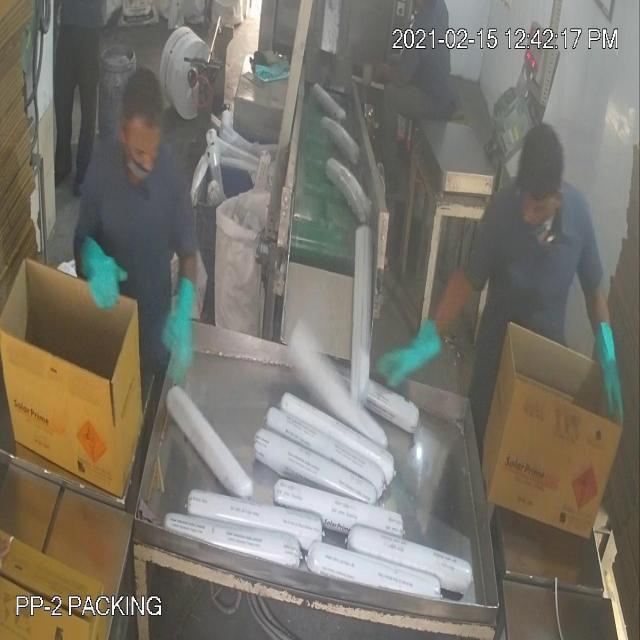Gloves: (48, 71, 607, 376)
